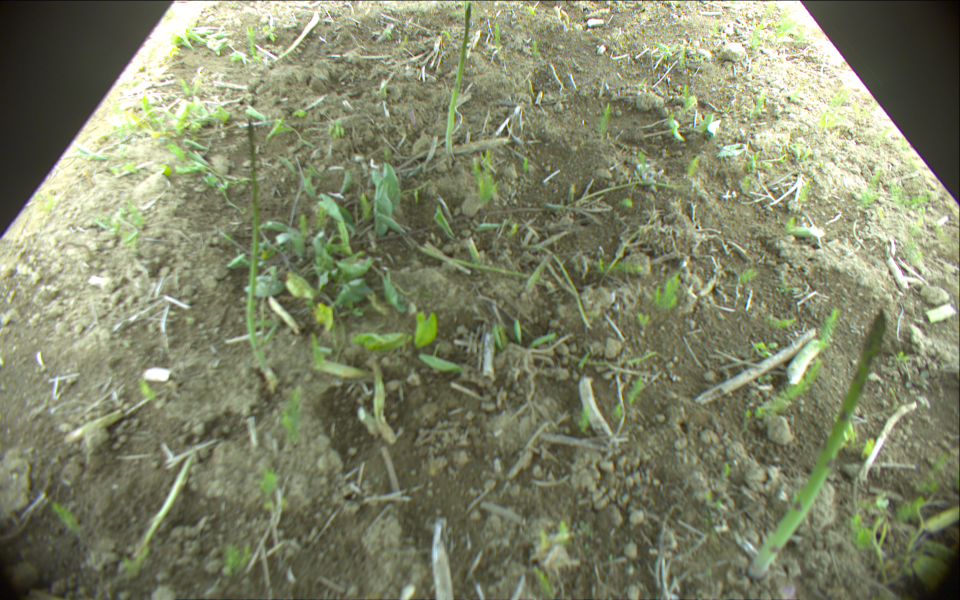aspa: (746, 307, 886, 580), (246, 119, 266, 371), (445, 3, 471, 158)
